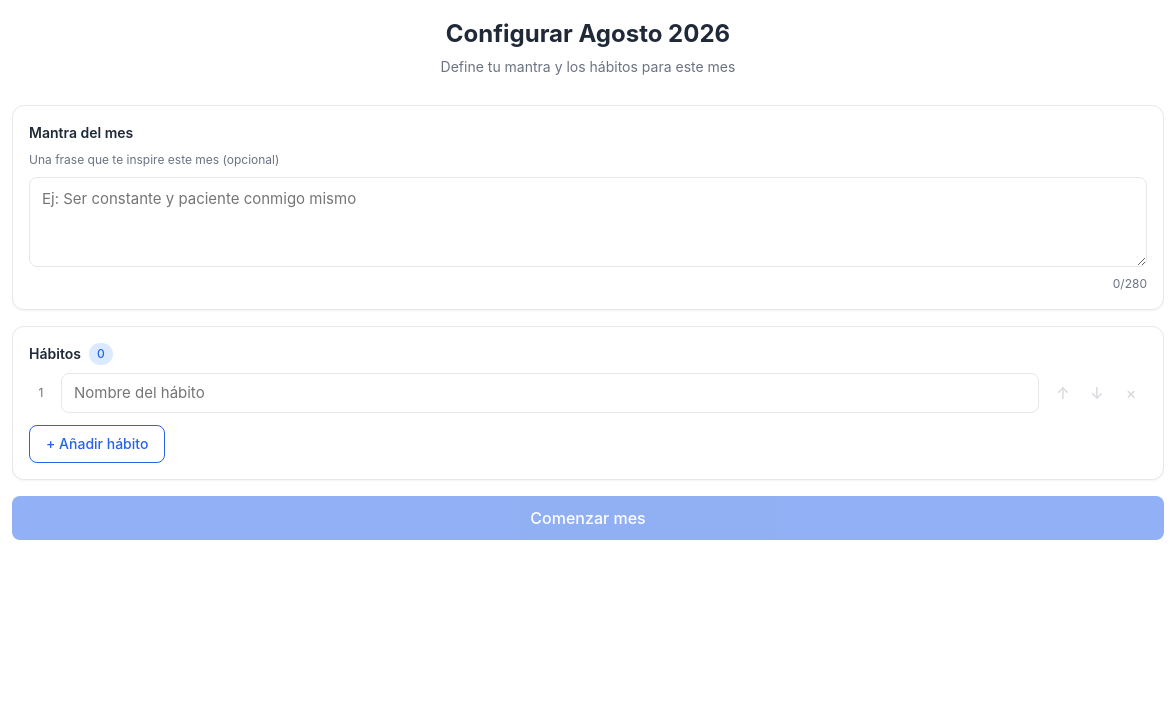
MonthSetup autocomplete › shows a reuse hint when the typed name matches an existing habit exactly
The width and height of the screenshot is (1176, 720).
Type "Meditar" into the dropdown with placeholder "Nombre del hábito" at (550, 393), box 61,372 -> 1039,413
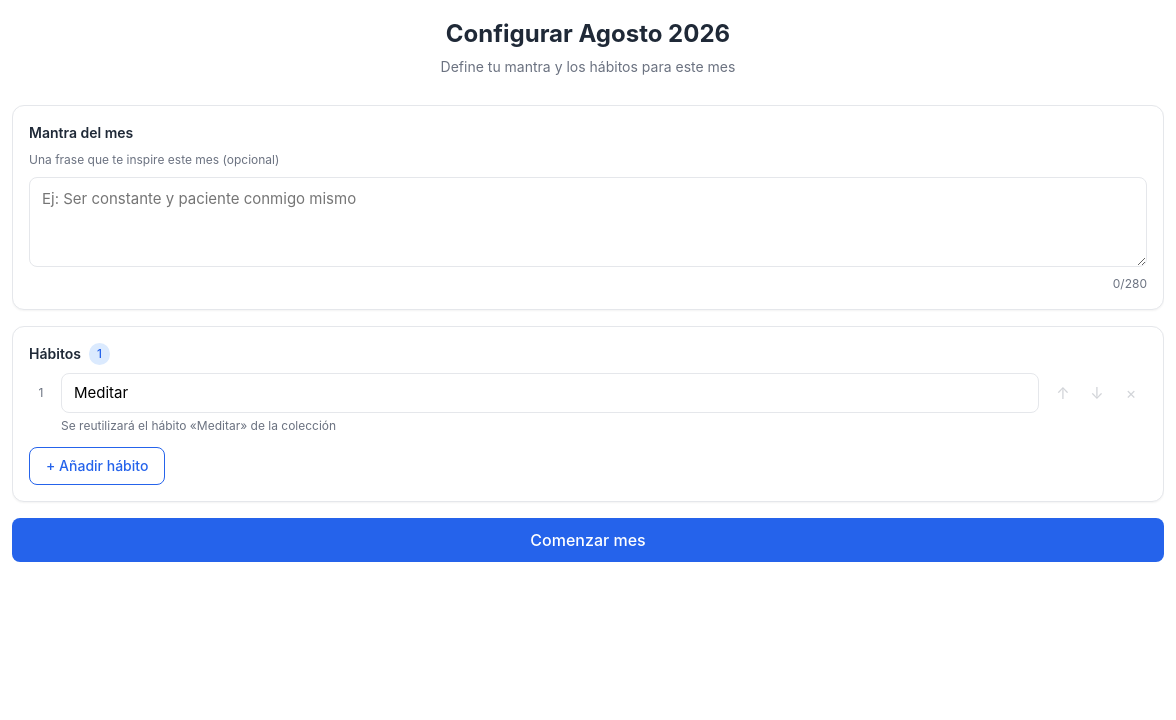
Check: the text "Se reutilizará el hábito «Meditar» de la colección" is shown, box 61,418 -> 336,433
